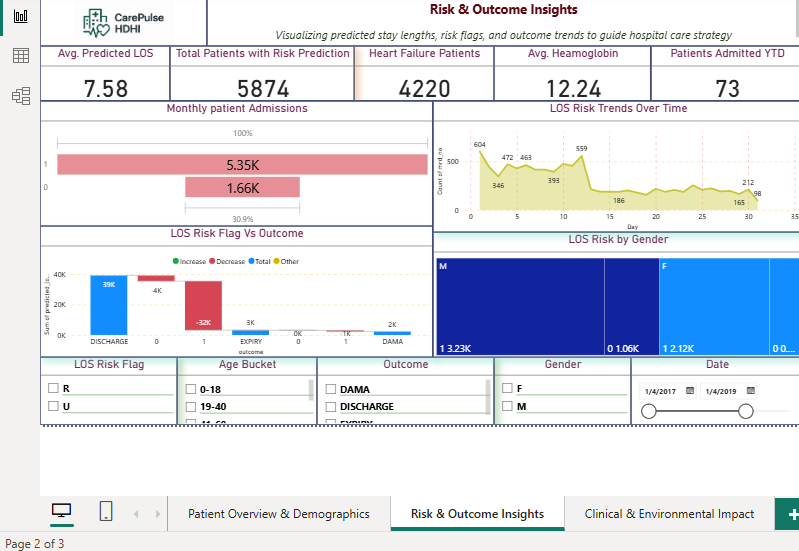

The dashboard page shown, as its layout file describes it:
{"tool":"powerbi","page":{"name":"Risk & Outcome Insights","canvas":[1280,720],"ordinal":1},"visuals":[{"type":"image","box":[0,0,280.2,83.9],"z":0},{"type":"textbox","box":[280.2,0,999.8,83.9],"z":1},{"type":"card","title":"Avg. Predicted LOS","fields":{"Values":["MasterHospitalData.Average Predicted LOS"]},"box":[0,83.9,218.1,92.3],"z":2},{"type":"card","title":"Heart Failure Patients","fields":{"Values":["MasterHospitalData.Heart Failure Patients"]},"box":[526.8,83.9,234.9,92.3],"z":3},{"type":"card","title":"Total Patients with Risk Prediction","fields":{"Values":["MasterHospitalData.Total Predicted Patients"]},"box":[218.1,83.9,308.7,92.3],"z":4},{"type":"card","title":"Avg. Heamoglobin","fields":{"Values":["MasterHospitalData.Avg Hemoglobin"]},"box":[761.6,83.9,263.4,92.3],"z":5},{"type":"card","title":"Patients Admitted YTD","fields":{"Values":["MasterHospitalData.Admissions YTD"]},"box":[1025,83.9,255,92.3],"z":6},{"type":"slicer","title":"Gender","fields":{"Values":["MasterHospitalData.gender"]},"box":[761.6,605.6,229.8,114.1],"z":7},{"type":"slicer","title":"Age Bucket","fields":{"Values":["MasterHospitalData.age_bucket"]},"box":[229.8,605.6,234.9,114.1],"z":8},{"type":"slicer","title":"LOS Risk Flag","fields":{"Values":["MasterHospitalData.rural"]},"box":[0,605.6,229.8,114.1],"z":9},{"type":"slicer","title":"Outcome","fields":{"Values":["MasterHospitalData.outcome"]},"box":[464.7,605.6,296.9,114.1],"z":10},{"type":"slicer","title":"Date","fields":{"Values":["MasterHospitalData.doa"]},"box":[991.5,605.6,288.5,114.1],"z":11},{"type":"funnel","title":"Monthly patient Admissions","fields":{"Y":["CountNonNull(MasterHospitalData.mrd_no)"],"Category":["PredictedOutcomes.los_risk_flag"]},"box":[0,176.1,659.3,209.7],"z":12},{"type":"waterfallChart","title":"LOS Risk Flag Vs Outcome","fields":{"Category":["PredictedOutcomes.outcome"],"Y":["Sum(PredictedOutcomes.predicted_los)"],"Breakdown":["PredictedOutcomes.los_risk_flag"]},"box":[0,385.8,659.3,219.8],"z":13},{"type":"treemap","title":"LOS Risk by Gender","fields":{"Group":["MasterHospitalData.gender"],"Details":["PredictedOutcomes.los_risk_flag"],"Values":["CountNonNull(MasterHospitalData.mrd_no)"]},"box":[659.3,395.9,620.7,209.7],"z":14},{"type":"areaChart","title":"LOS Risk Trends Over Time","fields":{"Category":["MasterHospitalData.doa.Variation.Date Hierarchy.Day"],"Y":["CountNonNull(MasterHospitalData.mrd_no)"]},"box":[659.3,176.1,620.7,219.8],"z":15}]}

Visuals, with their boxes on the page's 1280x720 design canvas (x1, y1, x2, y2). These are canvas units, not pixel positions in the 799x551 screenshot, which may show the page scaled, cropped or inside an application window:
image: rect(0, 0, 280, 84)
textbox: rect(280, 0, 1280, 84)
"Avg. Predicted LOS" card: rect(0, 84, 218, 176)
"Heart Failure Patients" card: rect(527, 84, 762, 176)
"Total Patients with Risk Prediction" card: rect(218, 84, 527, 176)
"Avg. Heamoglobin" card: rect(762, 84, 1025, 176)
"Patients Admitted YTD" card: rect(1025, 84, 1280, 176)
"Gender" slicer: rect(762, 606, 991, 720)
"Age Bucket" slicer: rect(230, 606, 465, 720)
"LOS Risk Flag" slicer: rect(0, 606, 230, 720)
"Outcome" slicer: rect(465, 606, 762, 720)
"Date" slicer: rect(992, 606, 1280, 720)
"Monthly patient Admissions" funnel: rect(0, 176, 659, 386)
"LOS Risk Flag Vs Outcome" waterfallChart: rect(0, 386, 659, 606)
"LOS Risk by Gender" treemap: rect(659, 396, 1280, 606)
"LOS Risk Trends Over Time" areaChart: rect(659, 176, 1280, 396)
